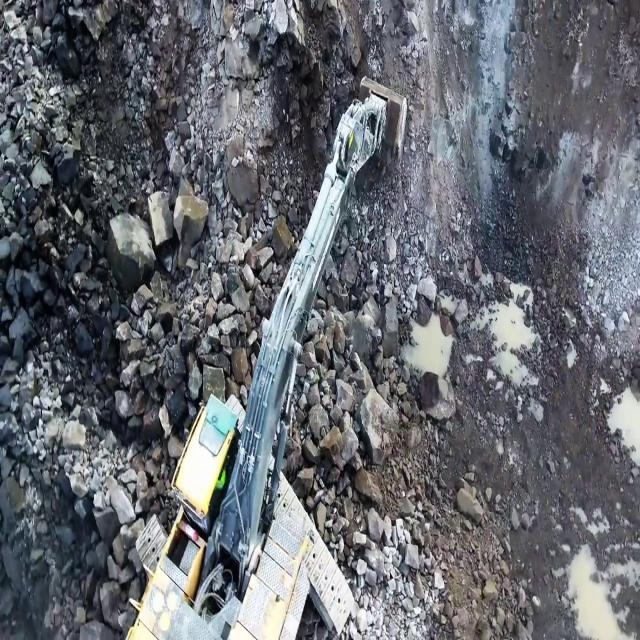excavator: (110, 72, 421, 640)
